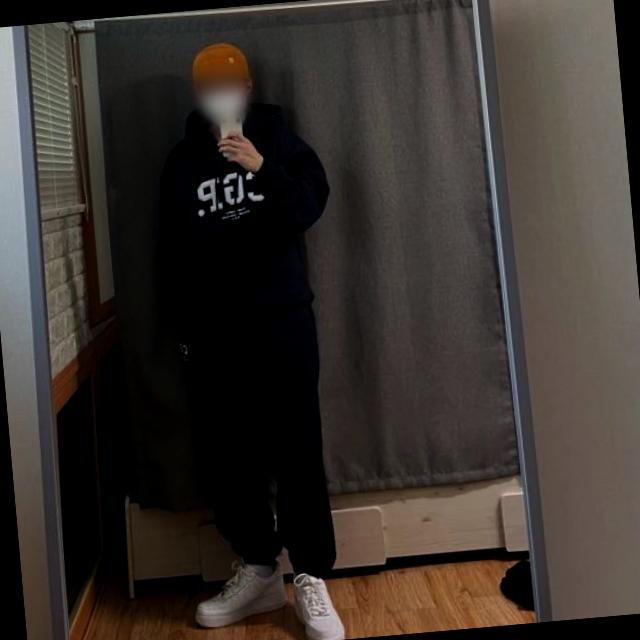hoodies: (148, 91, 342, 314)
trainingpants: (183, 302, 341, 588)
